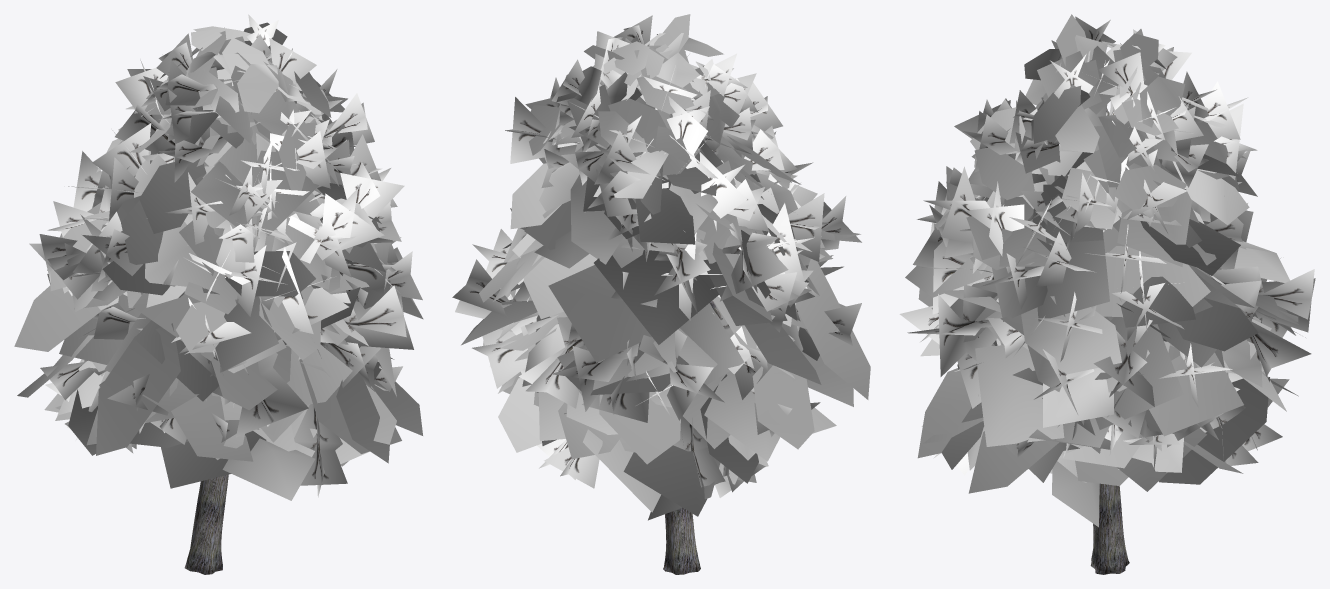
Rendered from Type_3_2.fbx.
3 views of the same model, side by side, from view 1: azimuth 30°, elevation 25°; view 2: azimuth 150°, elevation 25°; view 3: azimuth 270°, elevation 25° (orthographic). The views are drawn at different scales.
Parts seen in each view (by area): view 1: Type_3_2; view 2: Type_3_2; view 3: Type_3_2.
Boxes of the visible parts, x1=… form: Type_3_2: x1=14, y1=14, x2=423, y2=574; Type_3_2: x1=452, y1=14, x2=870, y2=574; Type_3_2: x1=899, y1=14, x2=1315, y2=574.
Size of the model in its own units: 23.3 by 22.5 by 33.32.
